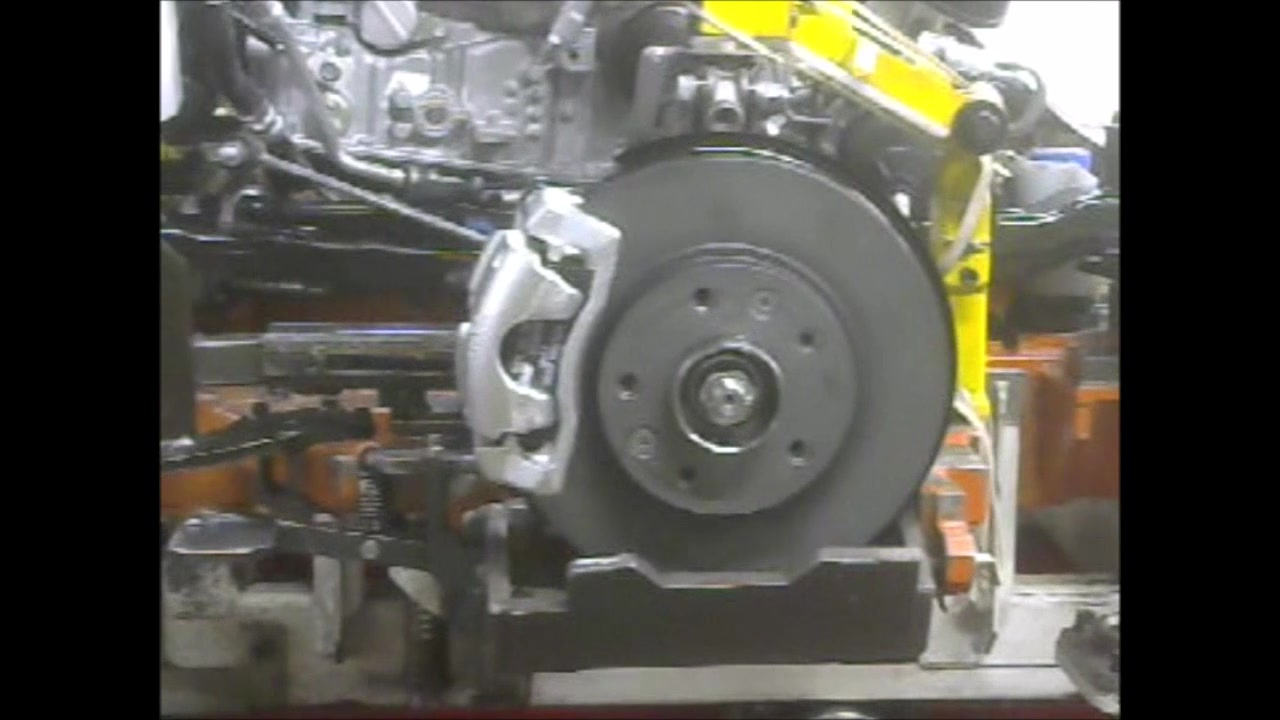DD3: (609, 131, 963, 549)
P3: (449, 178, 627, 501)
